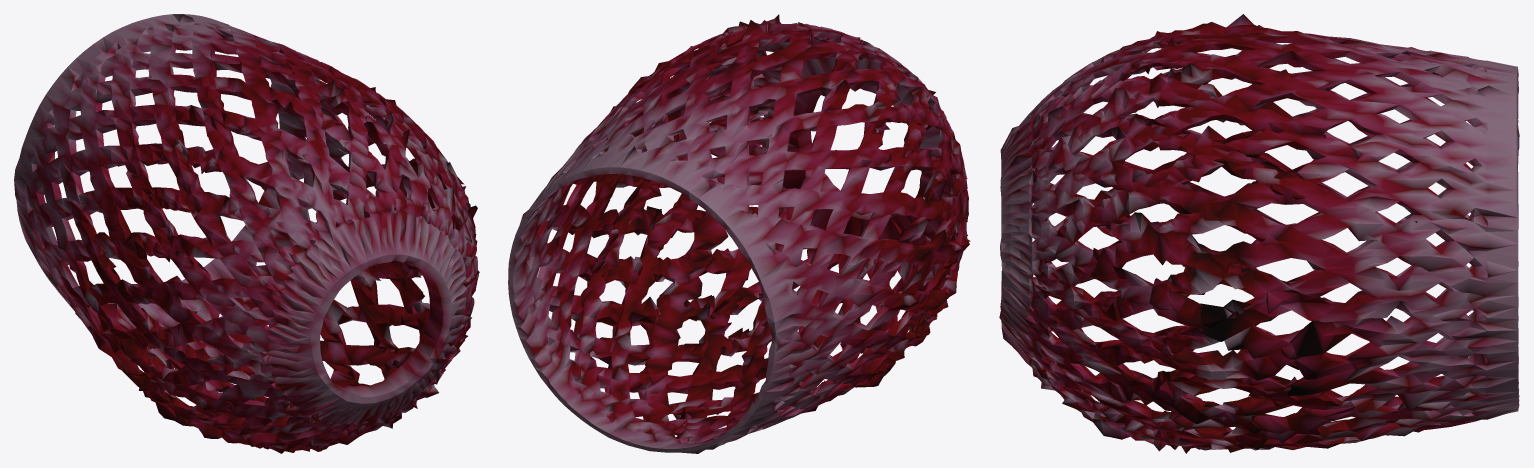
Rendered from lamp_shade_14_final300.obj.
3 views of the same model, side by side, from view 1: azimuth 30°, elevation 25°; view 2: azimuth 150°, elevation 25°; view 3: azimuth 270°, elevation 25° (orthographic). The views are drawn at different scales.
Size of the model in its own units: 1.27 by 1.24 by 1.5.
